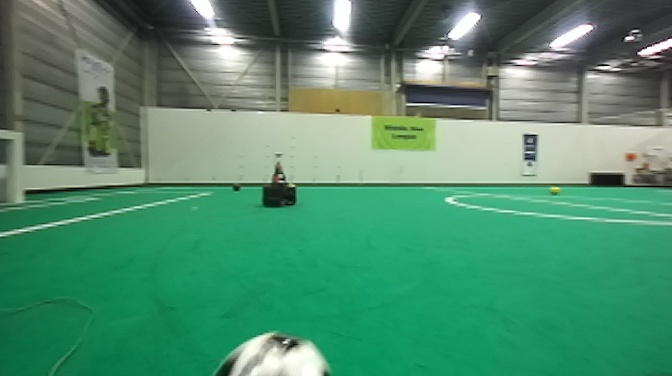ball: (205, 328, 344, 376), (548, 184, 562, 197), (230, 181, 242, 193)
goalpost: (11, 124, 28, 205)
robot: (256, 148, 300, 210)
